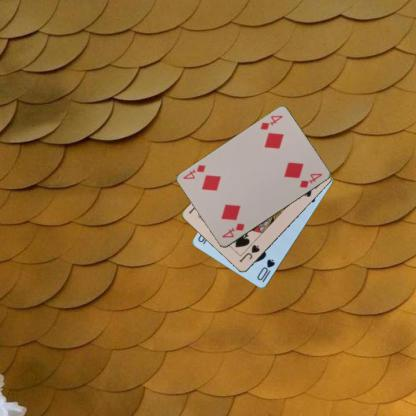10s: (254, 256, 276, 284)
4d: (219, 221, 245, 239), (258, 113, 284, 131)
Js: (236, 242, 261, 264)
